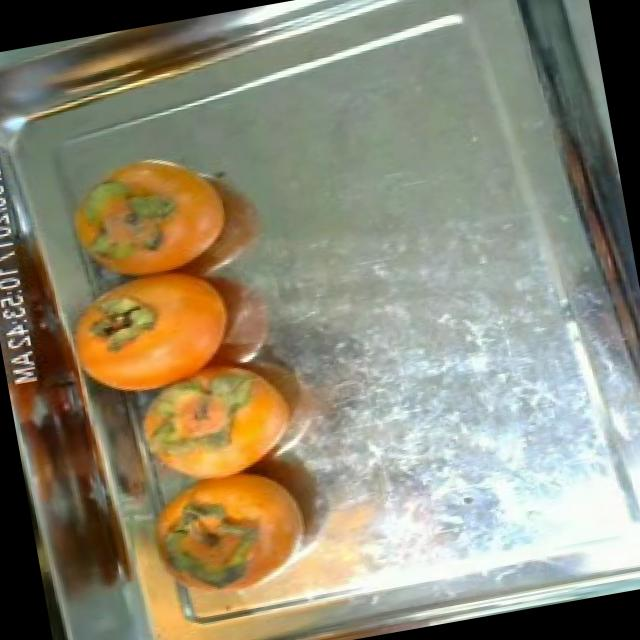Fruit: (40, 127, 266, 306)
